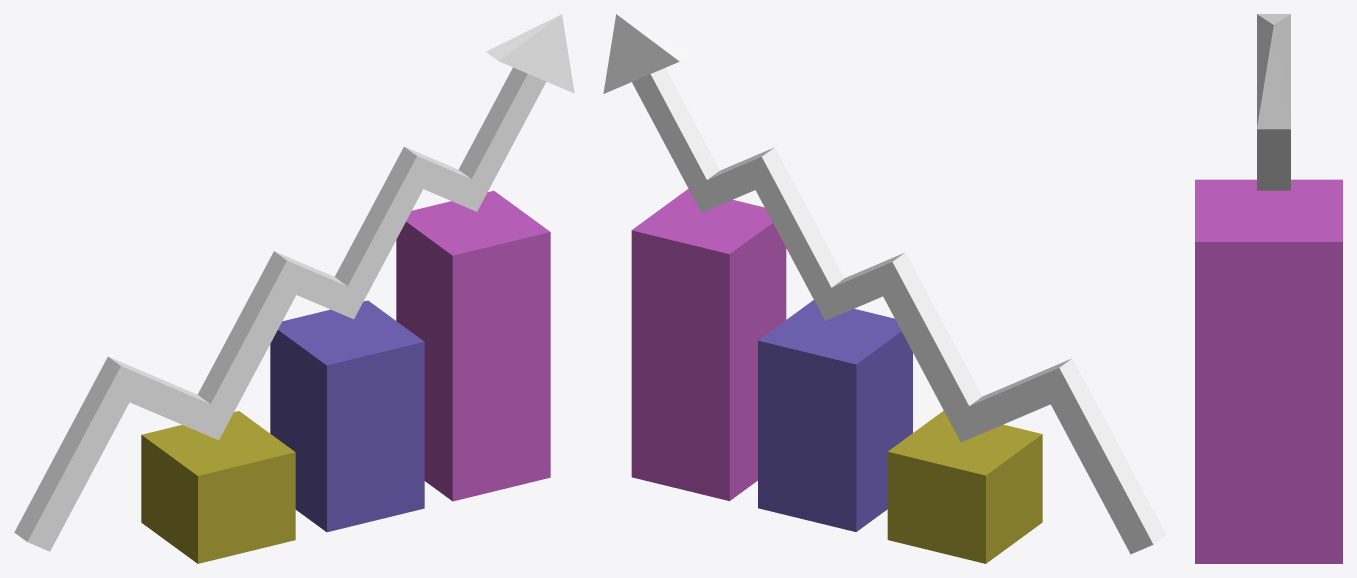
File: Businesses3D-transformed.glb
The picture shows the model from 3 angles, left to right: view 1: azimuth 30°, elevation 25°; view 2: azimuth 150°, elevation 25°; view 3: azimuth 270°, elevation 25°; orthographic projection. The views are drawn at different scales.
Parts seen in each view (by area): view 1: Cube.002, Cube.003, Cube.001, Cube; view 2: Cube.002, Cube.003, Cube.001, Cube; view 3: Cube.002, Cube.003.
Boxes of the visible parts, x1,y1,x2,y2 form: Cube.002: (396,190,550,501); Cube.003: (14,14,574,551); Cube.001: (270,300,424,532); Cube: (141,411,295,563); Cube.002: (631,189,786,500); Cube.003: (603,14,1166,554); Cube.001: (758,300,912,531); Cube: (887,410,1042,563); Cube.002: (1195,179,1342,563); Cube.003: (1257,14,1290,190).
Size of the model in its own units: 3.63 by 2.74 by 0.648.
